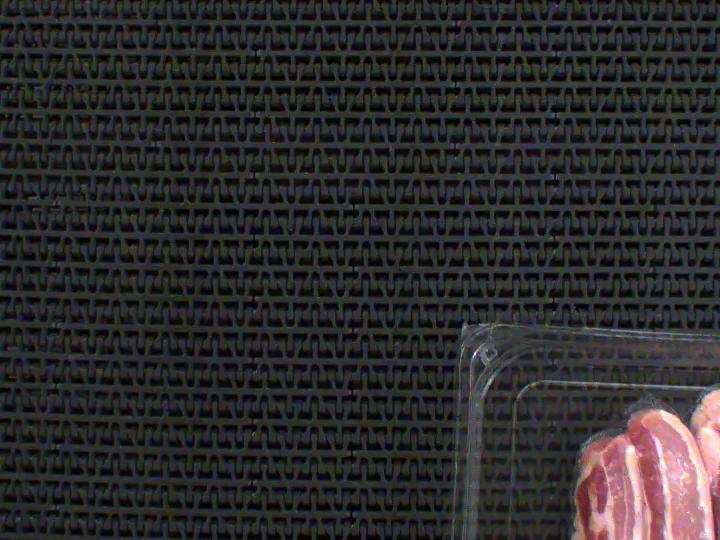unsealed: (573, 363, 720, 474)
